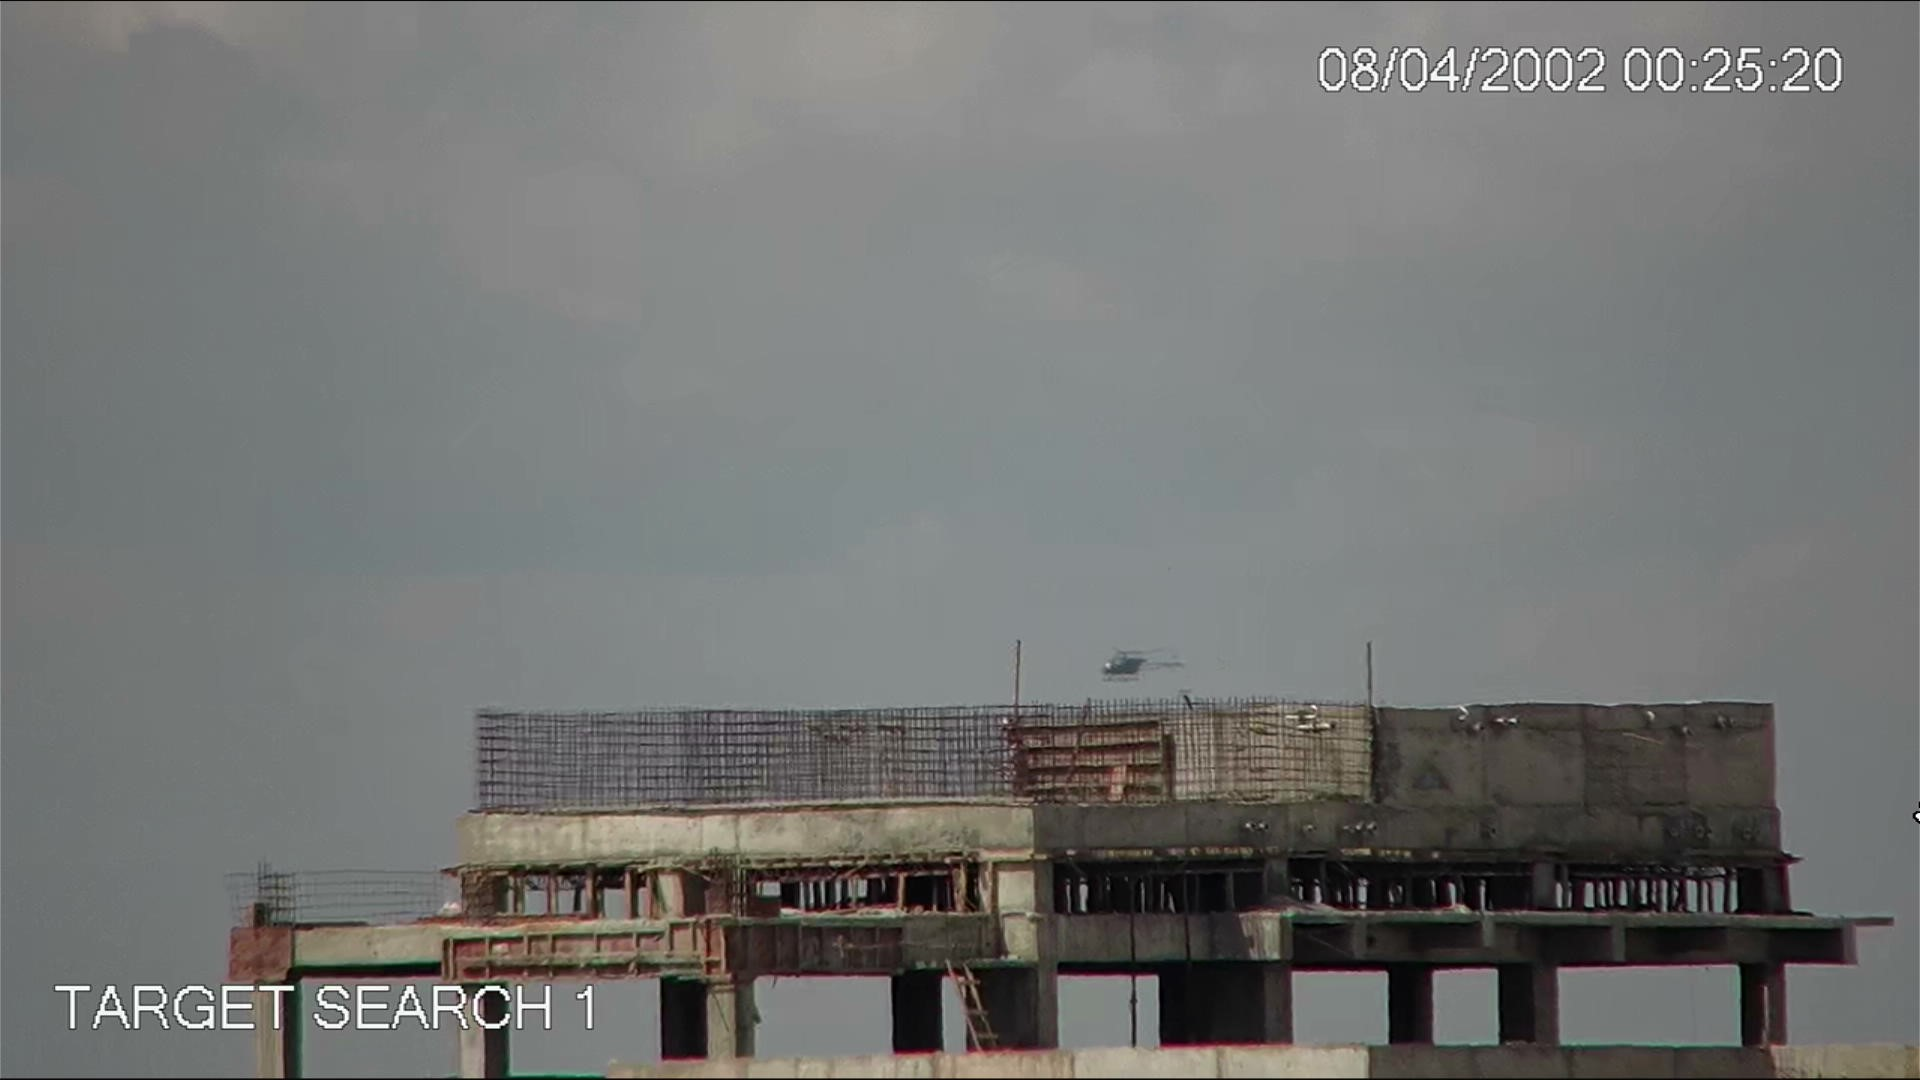SU_30: (1095, 641, 1187, 682)
